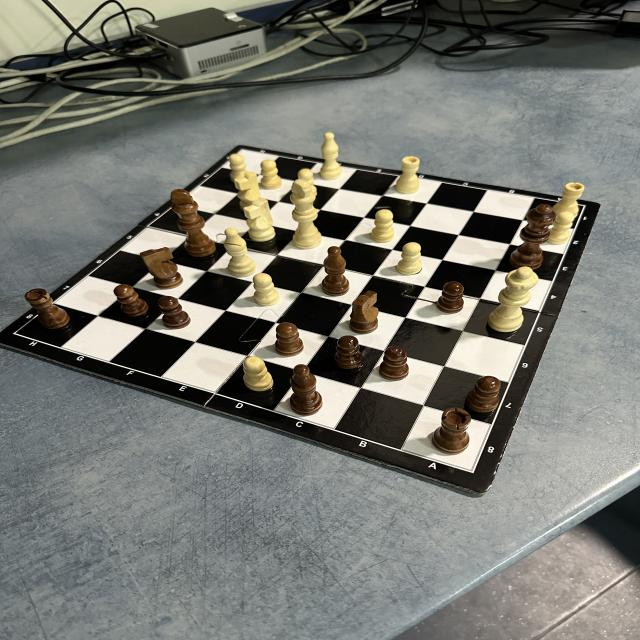Black-Bishop: (288, 364, 324, 416), (321, 246, 350, 296)
Black-King: (170, 188, 218, 258)
Black-Knight: (140, 247, 184, 290), (348, 290, 379, 334)
Black-Pawn: (466, 376, 501, 413), (158, 295, 192, 330), (114, 284, 150, 317), (378, 346, 410, 382), (274, 321, 304, 357), (333, 336, 364, 370), (437, 281, 464, 313)
Black-Queen: (509, 203, 557, 267)
Black-Rook: (428, 406, 477, 457), (23, 288, 71, 330)
White-Bishop: (225, 228, 258, 278), (319, 132, 343, 180)
White-King: (289, 178, 322, 250)
White-Knight: (243, 198, 276, 242), (234, 171, 259, 207)
White-Pawn: (242, 356, 275, 392), (253, 273, 280, 306), (396, 242, 422, 275), (551, 211, 575, 245), (370, 209, 394, 243), (260, 160, 283, 190), (230, 154, 247, 179), (297, 168, 314, 180)
White-Queen: (488, 266, 540, 333)
White-Rook: (552, 182, 586, 212), (395, 156, 420, 194)
